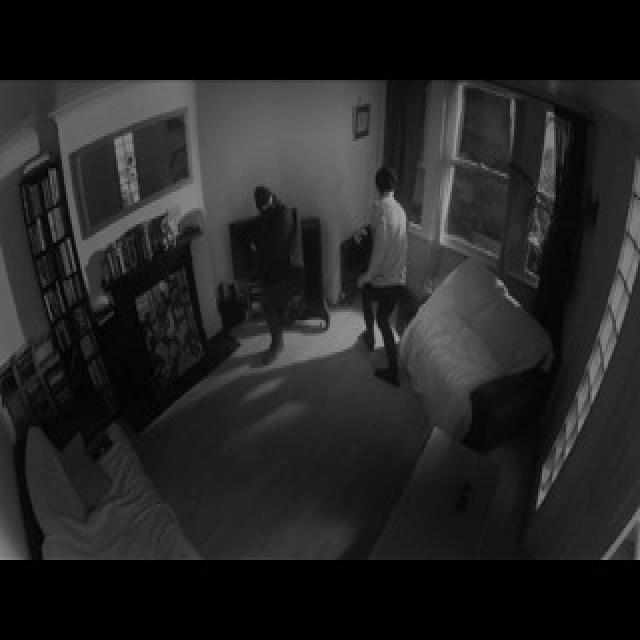thief: (236, 185, 317, 379), (369, 173, 426, 380)
